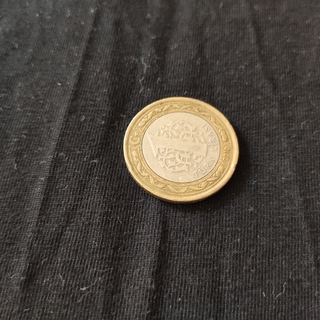1TL: (120, 94, 240, 206)
